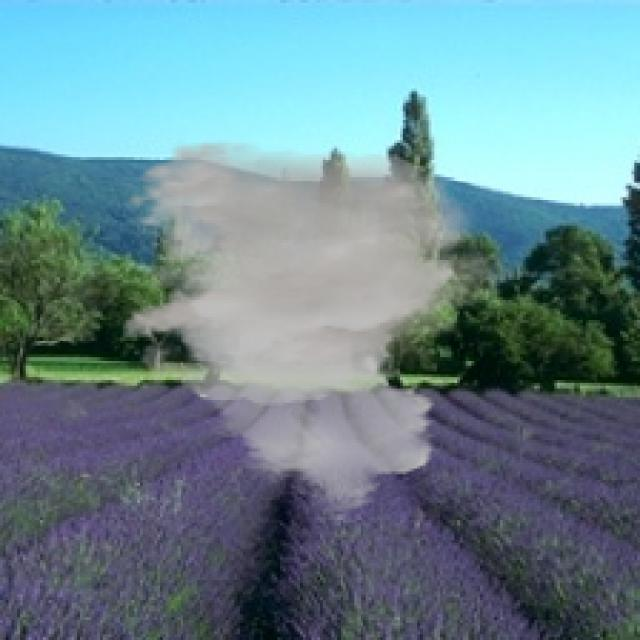smoke: (120, 140, 520, 523)
